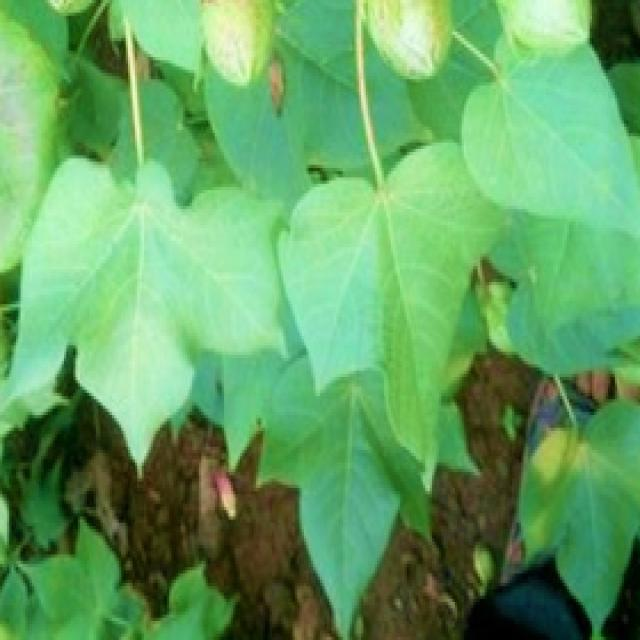Healthy Leaf: (34, 31, 639, 640)
